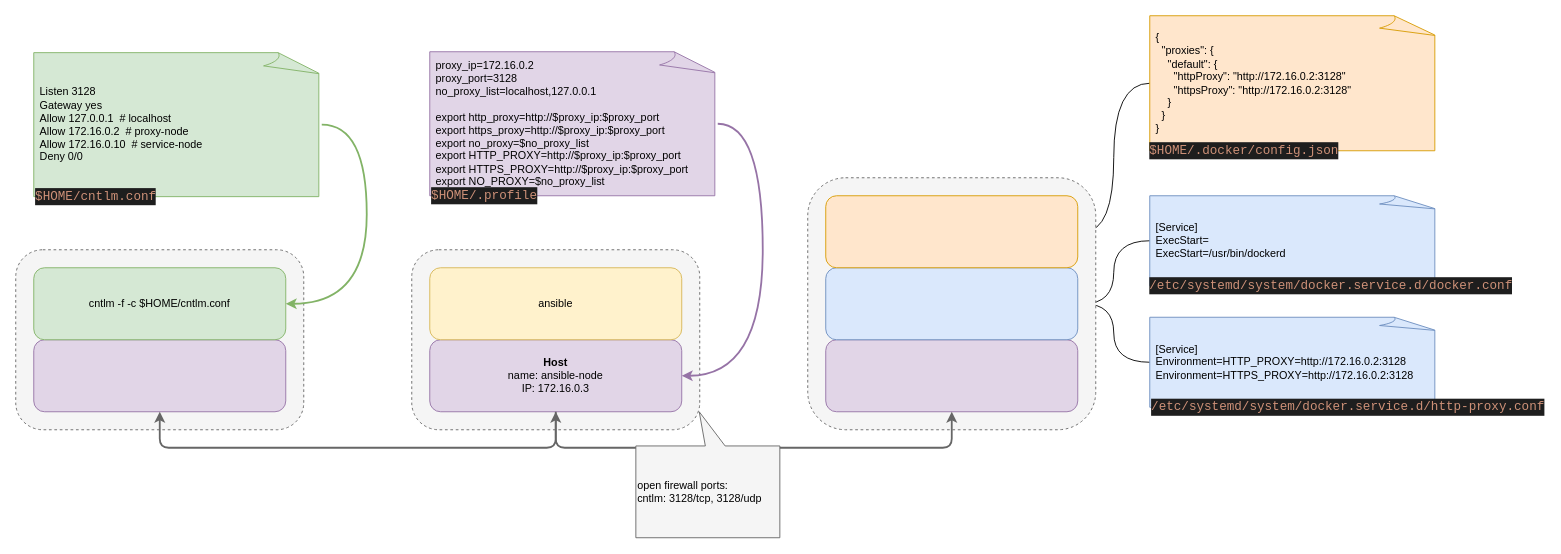
Image size: 1561x554. Some labels were removed from this diagram. Each missing label, with the centre of its shape:
docker client IP: 172.17.0.2: point (951, 231)
dockerd IP: 172.17.0.1/16: point (951, 303)
Host name: proxy-node IP: 172.16.0.2: point (159, 375)
Host name: remote-node IP: 172.16.0.10: point (951, 375)
